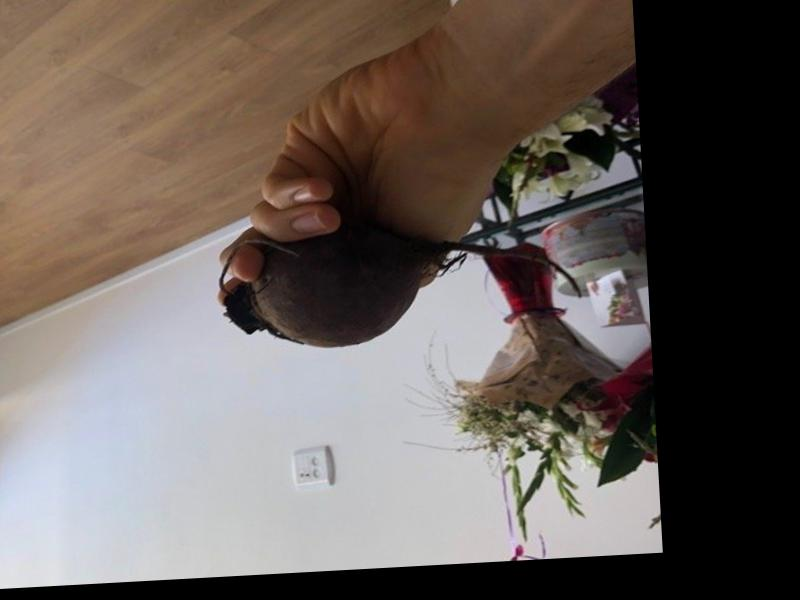Beet: (216, 209, 582, 352)
